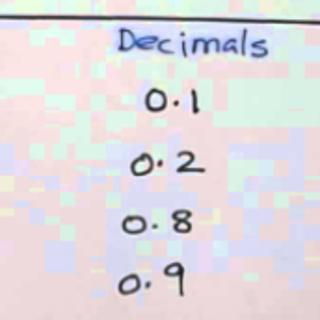.: (155, 157, 167, 167), (172, 97, 182, 108), (150, 221, 160, 232), (143, 279, 153, 290)
0: (130, 152, 154, 177), (122, 213, 147, 237), (144, 88, 167, 112), (118, 272, 141, 296)
1: (187, 86, 201, 114)
2: (175, 150, 208, 174)
8: (172, 208, 196, 235)
9: (164, 262, 186, 298)
